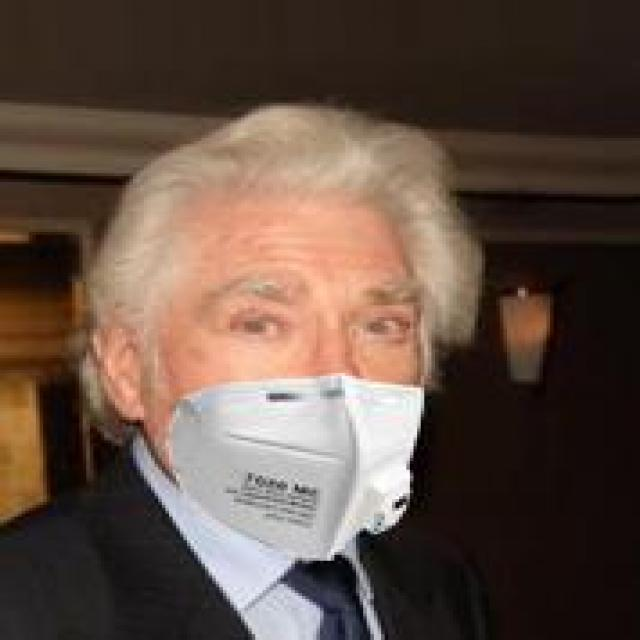mask: (83, 115, 449, 540)
